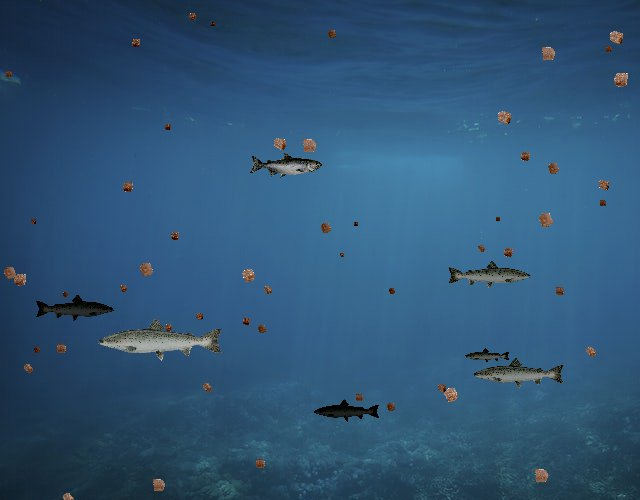Fish: (96, 316, 225, 362), (473, 357, 567, 391), (446, 259, 532, 290), (34, 294, 115, 323), (250, 152, 323, 179), (314, 399, 382, 423), (464, 348, 511, 365)
Pellet: (606, 64, 636, 94), (234, 262, 262, 290), (266, 131, 293, 158), (56, 486, 81, 500), (27, 215, 39, 227)
